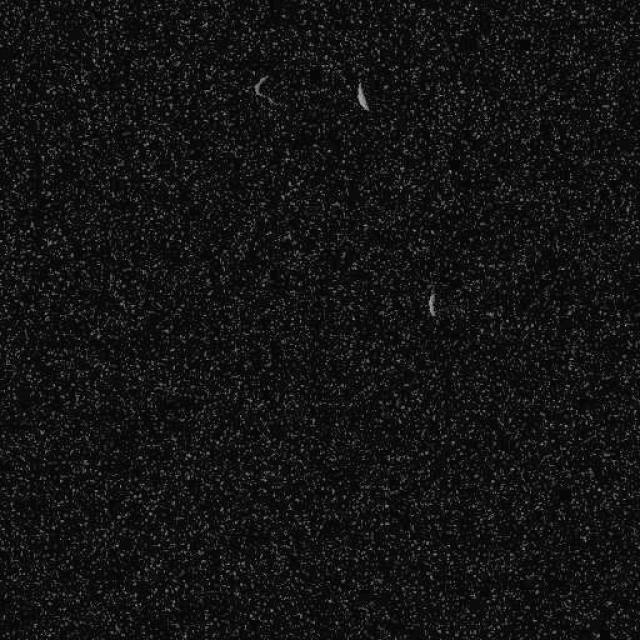D2: (252, 74, 276, 108), (354, 80, 370, 111), (427, 292, 438, 316)
